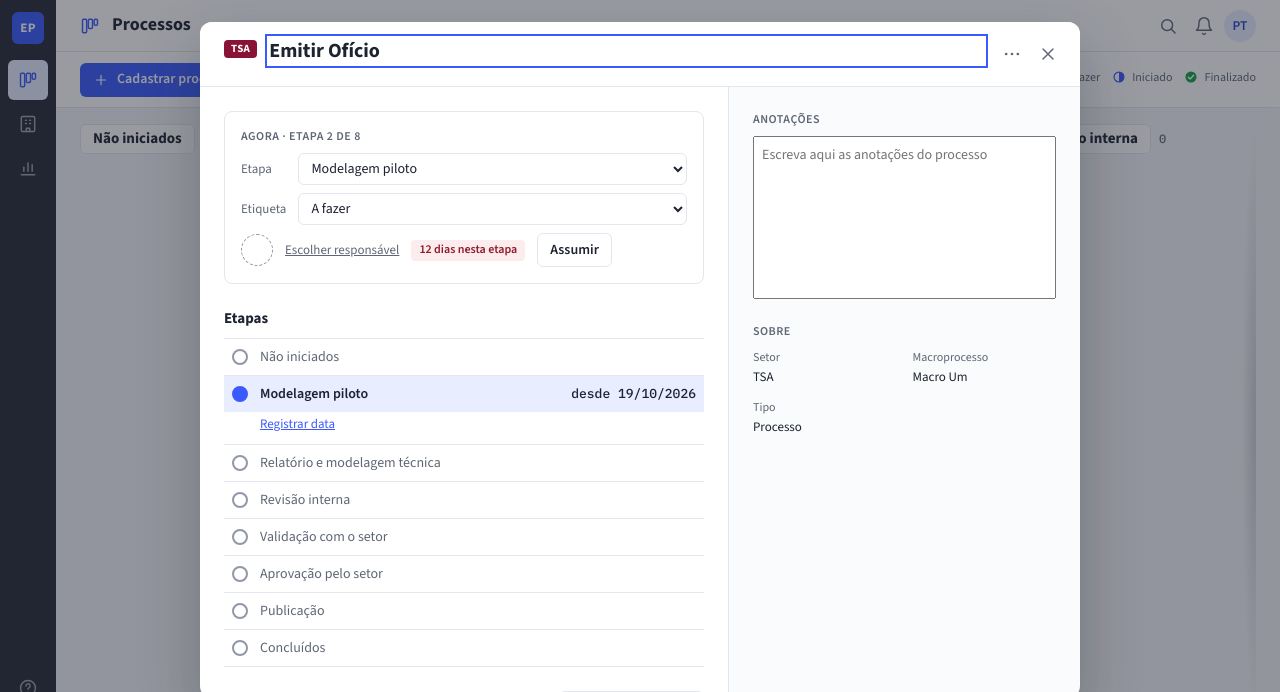
it: sair da Modelagem piloto sem versão piloto pergunta, com o texto da etapa, e o processo não se move
The image size is (1280, 692).
Select "Relatório e modelagem técnica" in the dropdown labelled "Etapa" at (493, 169), box [298,153,687,185]
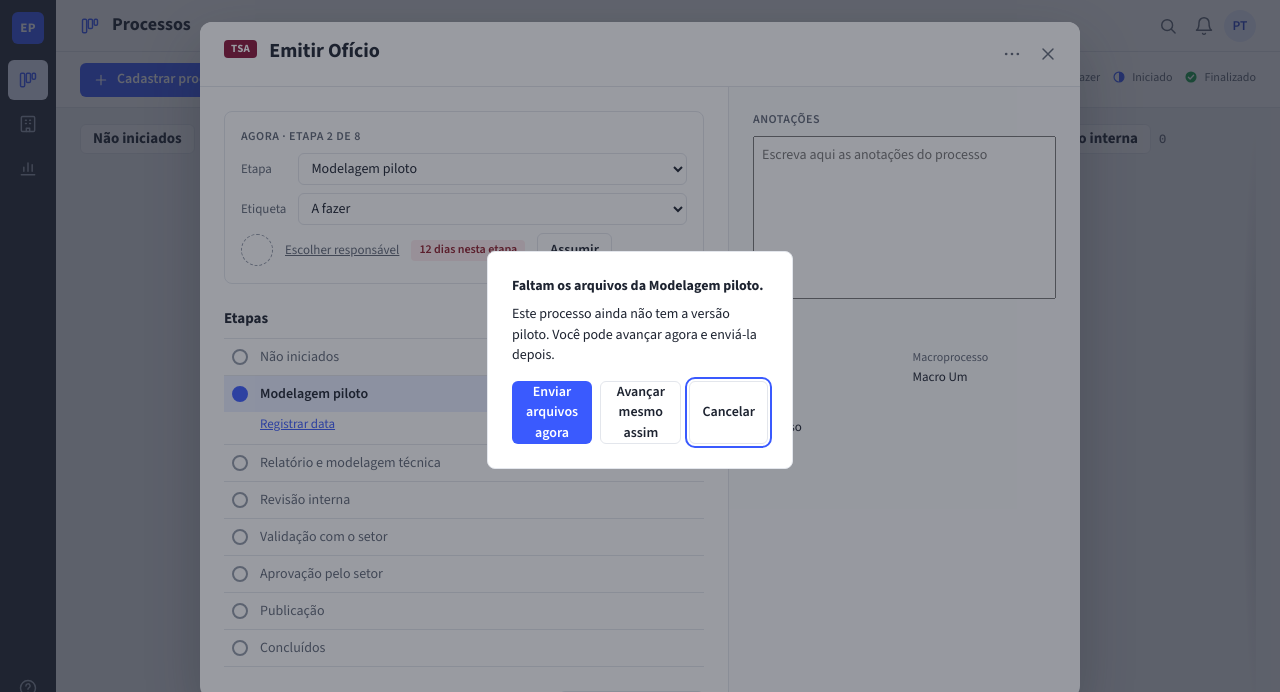
Expected: the text "Este processo ainda não tem a versão piloto. Você pode avançar agora e enviá-la depois." is shown, [512,304,757,365]
Expected: the button "Enviar arquivos agora" is shown, [512,381,592,444]
